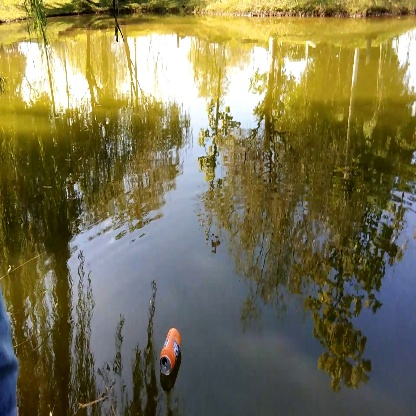bottle: (156, 324, 188, 381)
